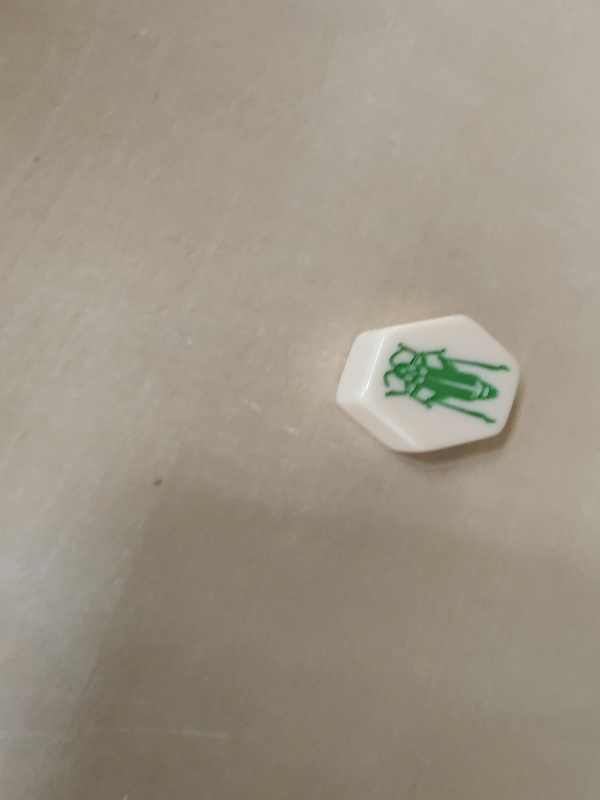white_grasshopper: (330, 313, 531, 445)
